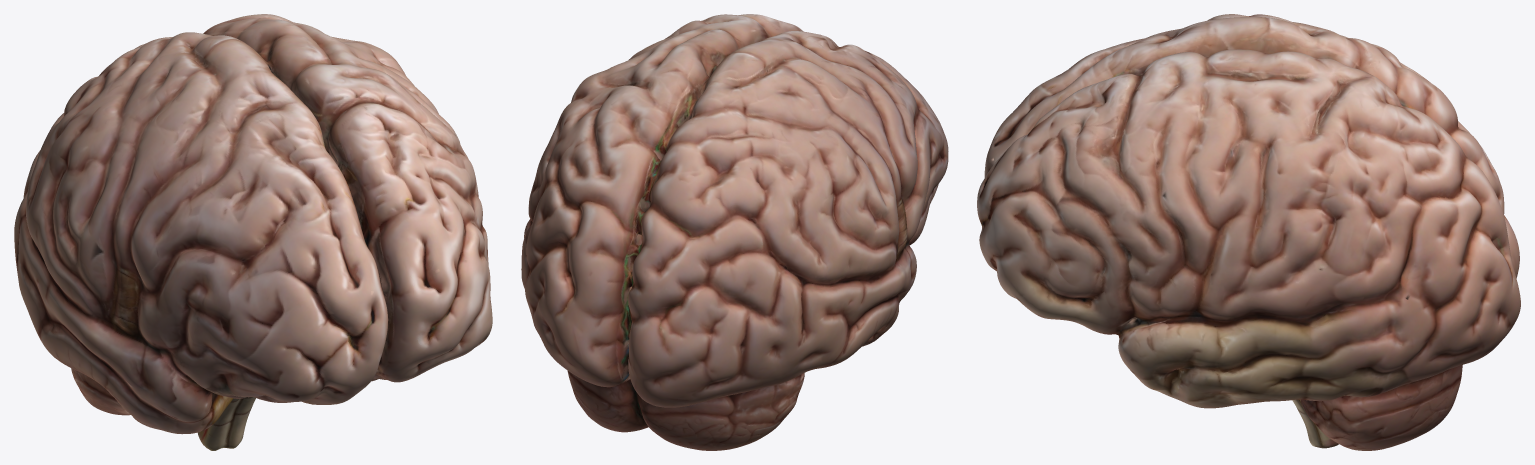
File: brain.glb
3 renders of one model, left to right at view 1: azimuth 30°, elevation 25°; view 2: azimuth 150°, elevation 25°; view 3: azimuth 270°, elevation 25°, orthographic. The views are drawn at different scales.
Visible parts, largest first — view 1: Mesh_0_Material_0.001_0; view 2: Mesh_0_Material_0.001_0; view 3: Mesh_0_Material_0.001_0.
Boxes of the visible parts, left/top/right/bottom form: Mesh_0_Material_0.001_0: left=14, top=14, right=492, bottom=450; Mesh_0_Material_0.001_0: left=521, top=14, right=948, bottom=450; Mesh_0_Material_0.001_0: left=977, top=14, right=1520, bottom=450.
Size of the model in its own units: 1.51 by 1.67 by 2.
Materials: 1 (1 with a texture image).
